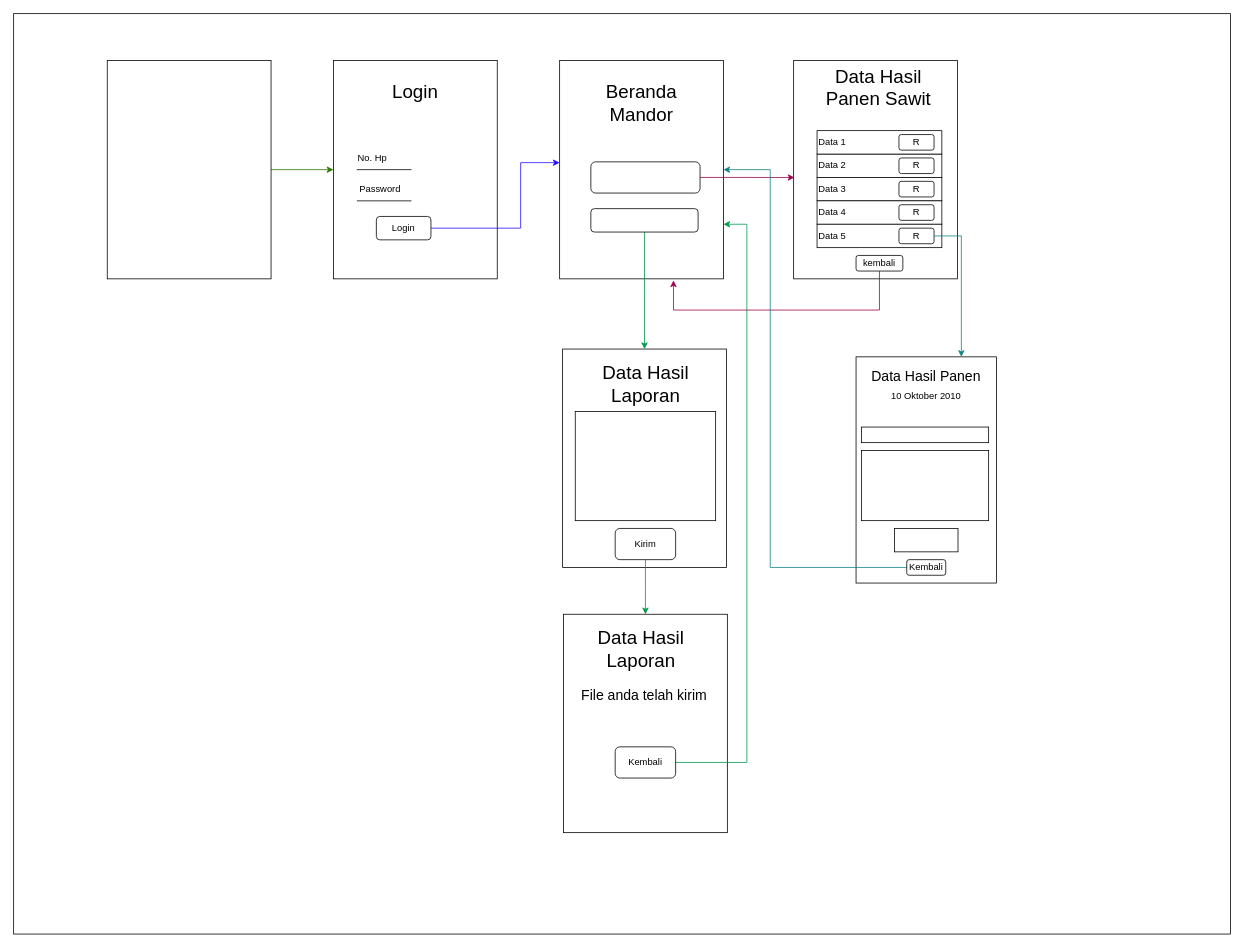
This 1244x948 diagram has some shape labels left out. The box of each missing label's shape, as (x1, y1, x2, y2) in pixels:
File Laporan: (574, 411, 716, 521)
Foto Hasil Panen Sawit: (861, 426, 989, 443)
Hasil Input Data: (861, 450, 989, 521)
Kelapa Sawit: (106, 60, 271, 279)
Lihat Data Panen Sawit: (590, 161, 700, 193)
Tanda Tangan: (894, 528, 958, 552)
Upload Laporan: (590, 208, 698, 232)
